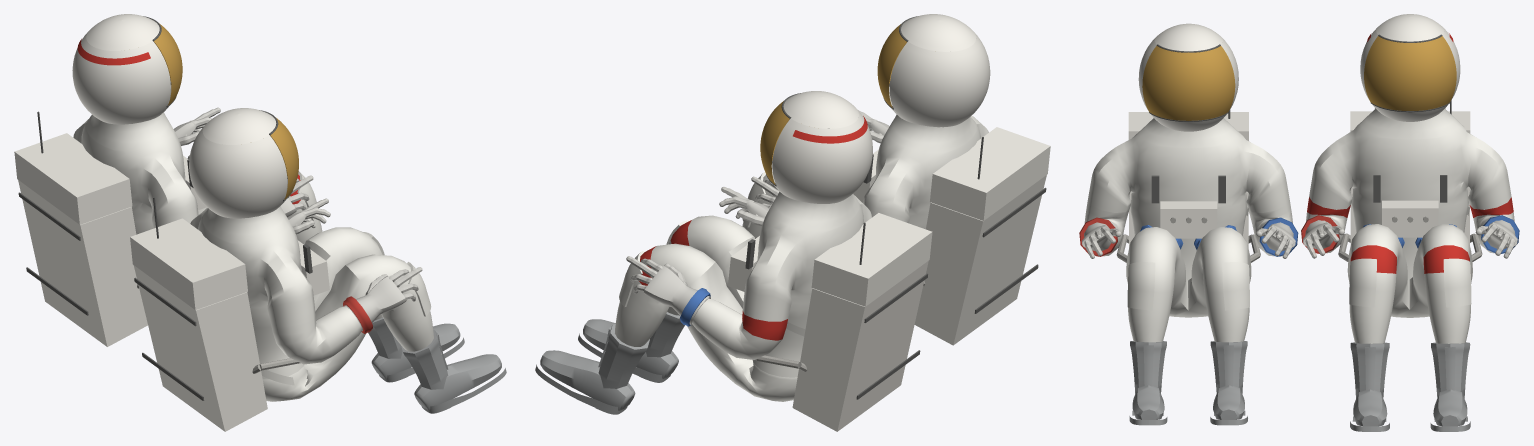
Rendered from riders.lod2.glb.
3 views of the same model, side by side, from view 1: azimuth 30°, elevation 25°; view 2: azimuth 150°, elevation 25°; view 3: azimuth 270°, elevation 25° (orthographic). The views are drawn at different scales.
Visible parts, largest first — view 1: Irwin_Helmet_OuterThermalCover, Scott_Helmet_OuterThermalCover, Irwin_Arms_Sleeves, Scott_Legs_Stowage, Irwin_Boots_Sole, Irwin_Gloves_PressureGloves, Scott_Gloves_PressureGloves, Irwin_Helmet_VisorRim, Scott_Helmet_GoldSunVisor, Irwin_Helmet_GoldSunVisor, Scott_Helmet_VisorRim, Scott_Helmet_CommanderBand (+1 smaller); view 2: Scott_Helmet_OuterThermalCover, Irwin_Helmet_OuterThermalCover, Scott_Legs_Stowage, Scott_Legs_Trousers, Irwin_Arms_Sleeves, Scott_Boots_Sole, Scott_Arms_Sleeves, Scott_Gloves_PressureGloves, Scott_Helmet_VisorRim, Irwin_Helmet_GoldSunVisor, Scott_Helmet_GoldSunVisor, Irwin_Helmet_VisorRim (+2 smaller); view 3: Irwin_Arms_Sleeves, Scott_Legs_Stowage, Scott_Legs_Trousers, Scott_Boots_Sole, Irwin_Helmet_GoldSunVisor, Scott_Helmet_GoldSunVisor, Irwin_Helmet_OuterThermalCover, Scott_Helmet_OuterThermalCover, Irwin_Boots_Sole, Scott_Gloves_PressureGloves, Irwin_Gloves_PressureGloves, Scott_Arms_Sleeves (+7 smaller).
Boxes of the visible parts, x1,y1,x2,y2 form: Irwin_Helmet_OuterThermalCover: [130, 108, 329, 431]; Scott_Helmet_OuterThermalCover: [14, 14, 206, 346]; Irwin_Arms_Sleeves: [190, 206, 433, 401]; Scott_Legs_Stowage: [73, 112, 318, 234]; Irwin_Boots_Sole: [368, 317, 506, 413]; Irwin_Gloves_PressureGloves: [287, 198, 422, 331]; Scott_Gloves_PressureGloves: [173, 107, 313, 217]; Irwin_Helmet_VisorRim: [134, 110, 312, 400]; Scott_Helmet_GoldSunVisor: [154, 23, 182, 105]; Irwin_Helmet_GoldSunVisor: [270, 118, 298, 199]; Scott_Helmet_VisorRim: [18, 16, 193, 315]; Scott_Helmet_CommanderBand: [77, 39, 150, 65]; Scott_Helmet_OuterThermalCover: [728, 91, 932, 431]; Irwin_Helmet_OuterThermalCover: [853, 14, 1050, 345]; Scott_Legs_Stowage: [619, 191, 871, 377]; Scott_Legs_Trousers: [615, 215, 797, 401]; Irwin_Arms_Sleeves: [742, 114, 988, 238]; Scott_Boots_Sole: [535, 312, 684, 414]; Scott_Arms_Sleeves: [692, 298, 787, 359]; Scott_Gloves_PressureGloves: [626, 187, 769, 325]; Scott_Helmet_VisorRim: [745, 93, 927, 399]; Irwin_Helmet_GoldSunVisor: [877, 24, 906, 107]; Scott_Helmet_GoldSunVisor: [760, 101, 789, 184]; Irwin_Helmet_VisorRim: [863, 16, 1046, 313]; Irwin_Arms_Sleeves: [1084, 118, 1293, 342]; Scott_Legs_Stowage: [1309, 108, 1511, 307]; Scott_Legs_Trousers: [1347, 224, 1472, 343]; Scott_Boots_Sole: [1350, 342, 1470, 431]; Irwin_Helmet_GoldSunVisor: [1142, 46, 1235, 120]; Scott_Helmet_GoldSunVisor: [1364, 36, 1456, 110]; Irwin_Helmet_OuterThermalCover: [1128, 23, 1248, 247]; Scott_Helmet_OuterThermalCover: [1350, 14, 1470, 244]; Irwin_Boots_Sole: [1129, 341, 1247, 425]; Scott_Gloves_PressureGloves: [1303, 220, 1517, 258]; Irwin_Gloves_PressureGloves: [1082, 222, 1295, 258]; Scott_Arms_Sleeves: [1306, 197, 1514, 253].
Bounding box in the file's own units: 1.18 × 1.14 × 1.41.
